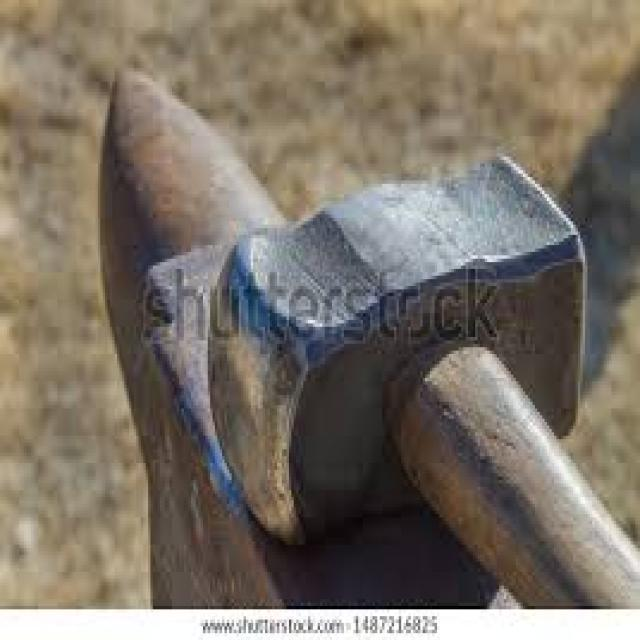hammer: (200, 139, 640, 606)
